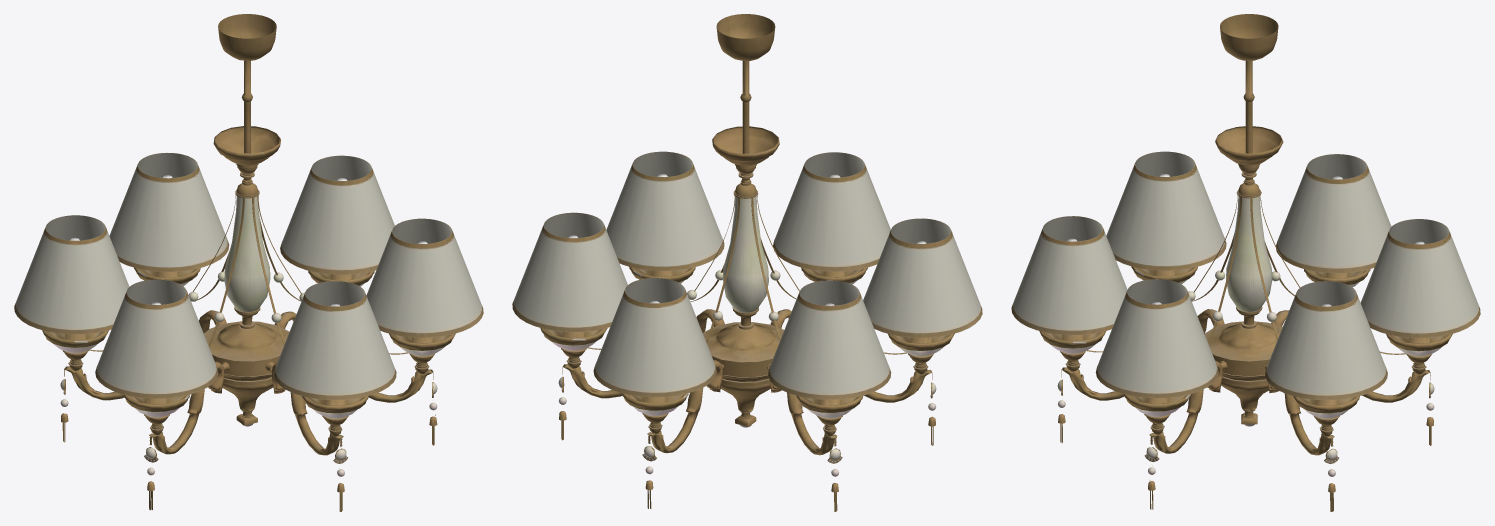
File: Chandelier_01.glb
3 renders of one model, left to right at view 1: azimuth 30°, elevation 25°; view 2: azimuth 150°, elevation 25°; view 3: azimuth 270°, elevation 25°, orthographic.
Visible parts, largest first — view 1: Chandelier_01; view 2: Chandelier_01; view 3: Chandelier_01.
Part boxes in pixels (x1=…): Chandelier_01: x1=14, y1=14, x2=483, y2=511; Chandelier_01: x1=512, y1=14, x2=982, y2=511; Chandelier_01: x1=1011, y1=14, x2=1480, y2=511.
Size of the model in its own units: 0.7465 by 0.7983 by 0.8155.
Materials: 2 (1 with a texture image).
